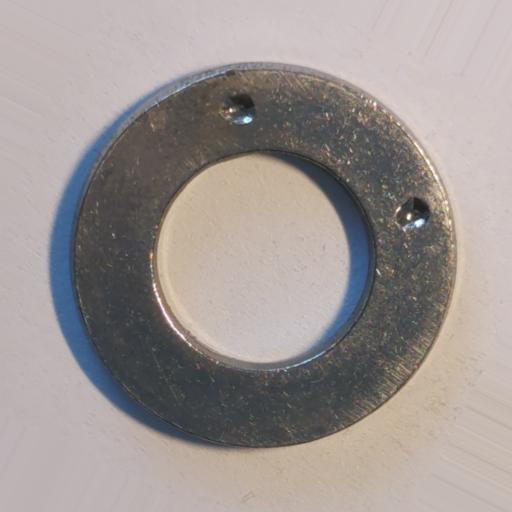circular_cavity: (220, 91, 257, 125), (395, 196, 431, 230)
